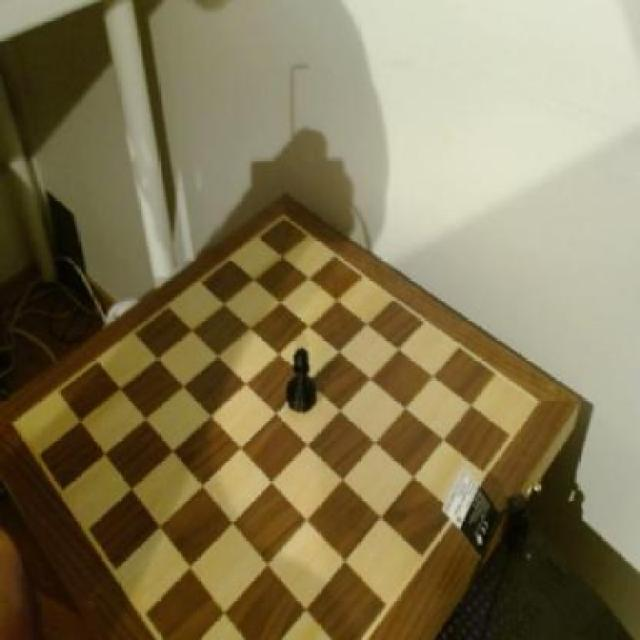black-knight: (284, 342, 320, 420)
